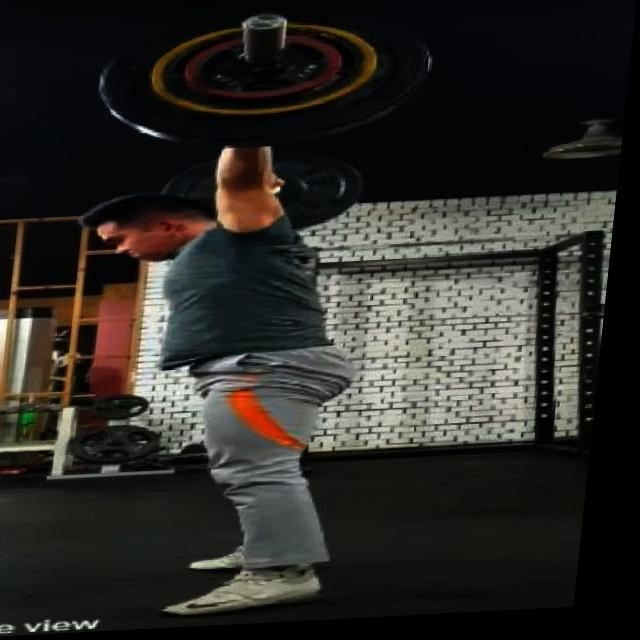barbell: (88, 7, 443, 157)
